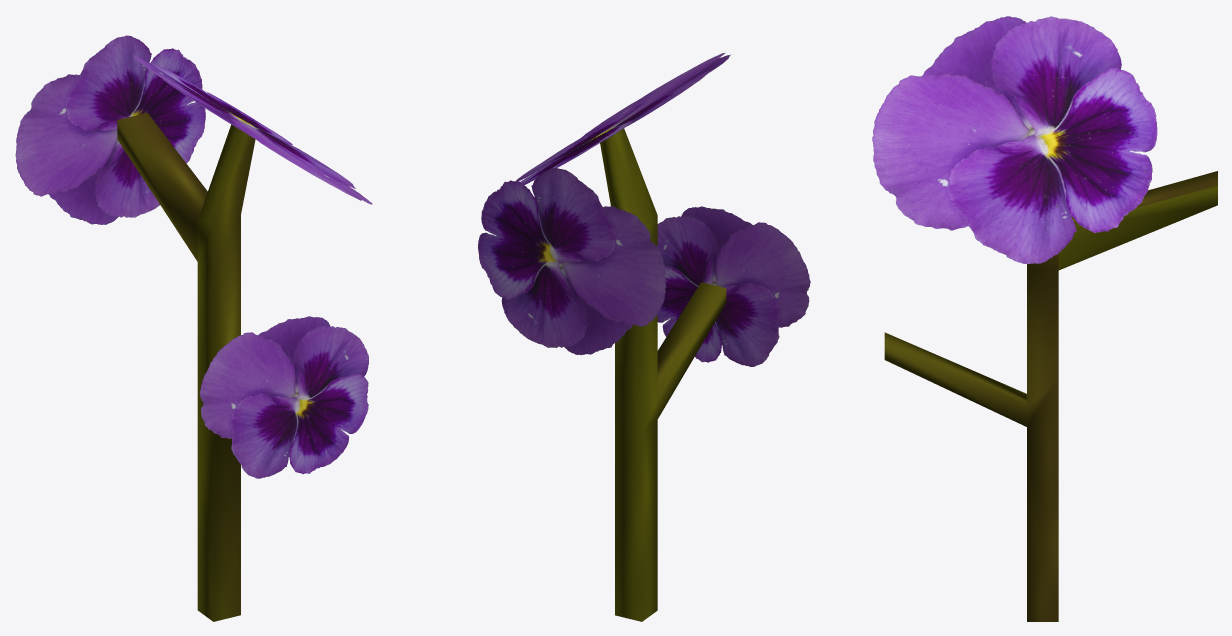
The model's file is blue_flower.fbx.
The picture shows the model from 3 angles, left to right: view 1: azimuth 30°, elevation 25°; view 2: azimuth 150°, elevation 25°; view 3: azimuth 270°, elevation 25°; orthographic projection. The views are drawn at different scales.
Visible parts, largest first — view 1: BlueFlower; view 2: BlueFlower; view 3: BlueFlower.
Boxes of the visible parts, <box> form: BlueFlower: <box>15,35,372,621</box>; BlueFlower: <box>478,52,810,621</box>; BlueFlower: <box>872,16,1217,621</box>.
Size of the model in its own units: 68.12 by 58.36 by 123.
